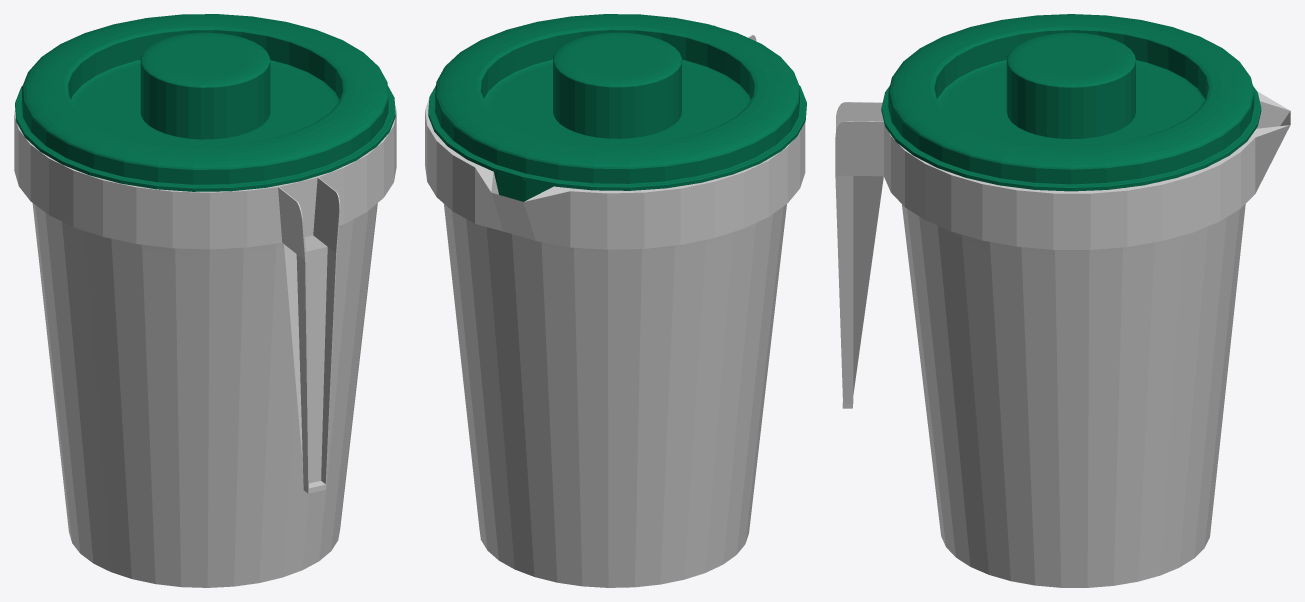
File: jarro.fbx
The picture shows the model from 3 angles, left to right: view 1: azimuth 30°, elevation 25°; view 2: azimuth 150°, elevation 25°; view 3: azimuth 270°, elevation 25°; orthographic projection.
Parts seen in each view (by area): view 1: Cylinder, Cylinder.001; view 2: Cylinder, Cylinder.001; view 3: Cylinder, Cylinder.001.
Boxes of the visible parts, x1,y1,x2,y2 form: Cylinder: (14, 105, 396, 587); Cylinder.001: (15, 14, 395, 191); Cylinder: (425, 25, 805, 587); Cylinder.001: (428, 14, 806, 201); Cylinder: (835, 91, 1290, 587); Cylinder.001: (881, 14, 1261, 191).
Bounding box in the file's own units: 226 × 309 × 270.
